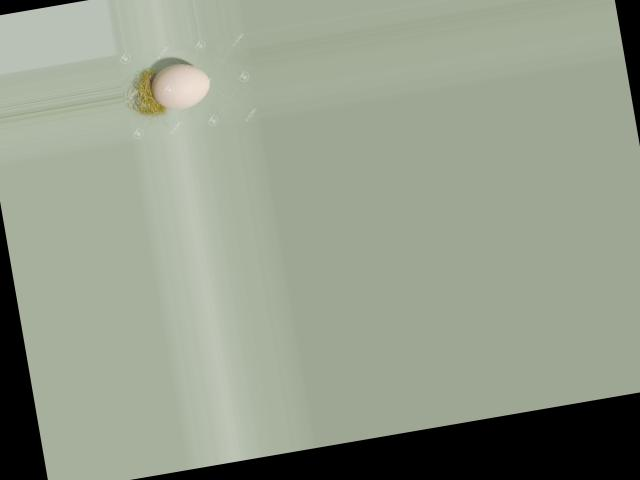egg: (149, 59, 213, 112)
